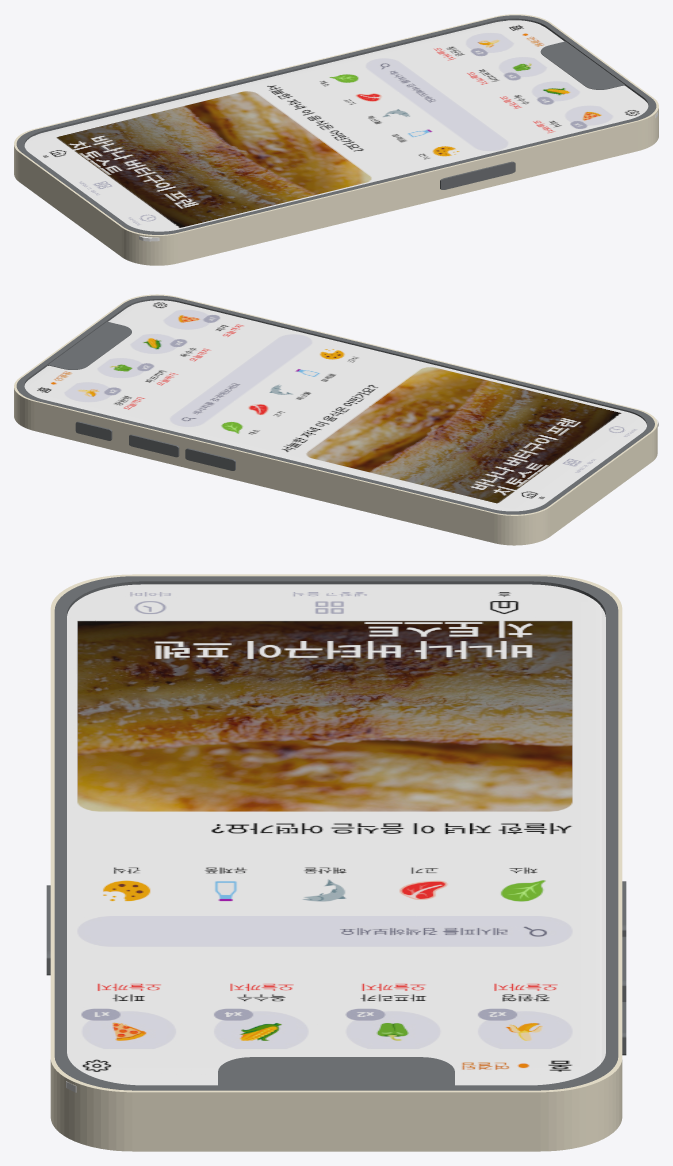
Rendered from fresio_iphone.glb.
3 views of the same model, one above another, from view 1: azimuth 30°, elevation 25°; view 2: azimuth 150°, elevation 25°; view 3: azimuth 270°, elevation 25° (orthographic). The views are drawn at different scales.
Parts seen in each view (by area): view 1: Cube.001, imagetostl_mesh0; view 2: Cube.001, imagetostl_mesh0; view 3: Cube.001, imagetostl_mesh0.
Boxes of the visible parts, <box> form: Cube.001: <box>24,20,657,241</box>; imagetostl_mesh0: <box>14,14,658,265</box>; Cube.001: <box>24,300,658,511</box>; imagetostl_mesh0: <box>14,294,657,545</box>; Cube.001: <box>66,584,601,1092</box>; imagetostl_mesh0: <box>46,574,626,1151</box>.
Bounding box in the file's own units: 150 × 8 × 71.
Materials: 5 (1 with a texture image).
